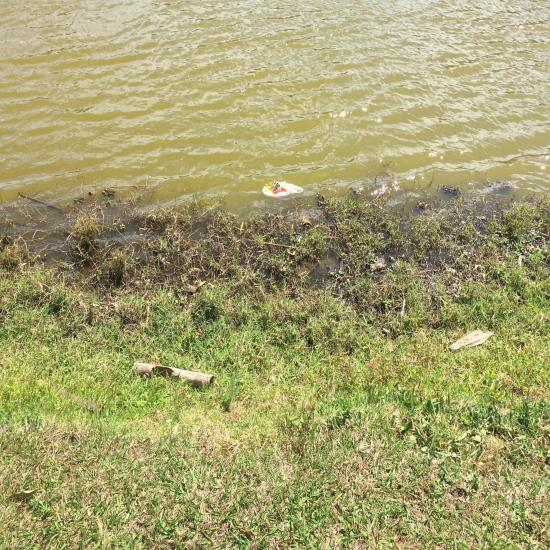Single-use carrier bag: (263, 181, 304, 199)
